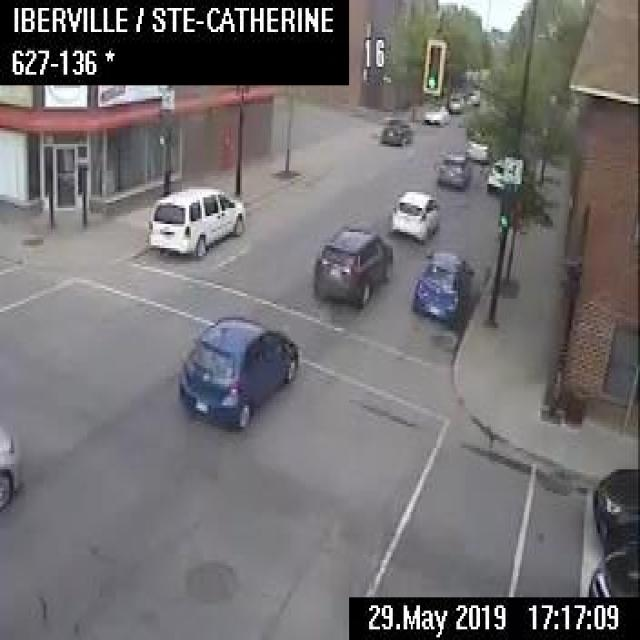vehicle: (175, 312, 296, 432), (146, 184, 246, 259), (311, 224, 394, 306), (409, 245, 475, 323), (590, 466, 638, 548), (578, 537, 638, 595), (389, 186, 439, 242), (0, 424, 24, 512), (435, 152, 472, 186), (380, 117, 413, 144), (462, 132, 488, 160), (484, 155, 506, 188), (420, 100, 449, 125), (446, 89, 464, 112), (464, 85, 480, 102)
